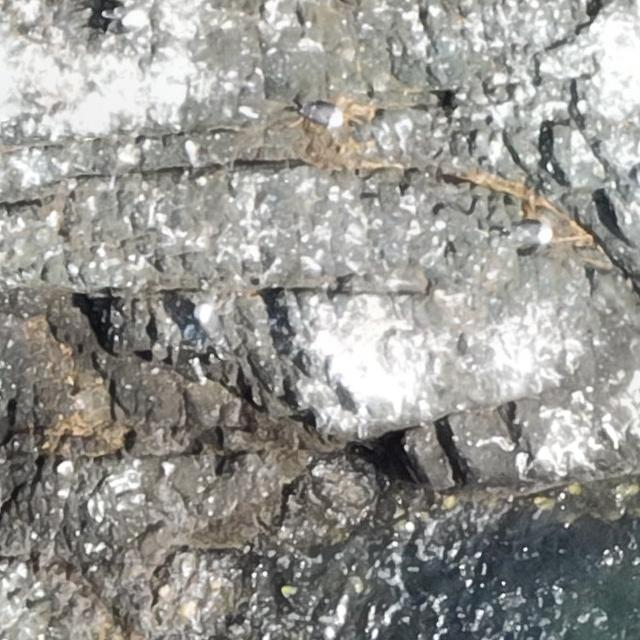umineko: (195, 304, 225, 348), (105, 8, 147, 38), (510, 223, 550, 243), (306, 106, 340, 127)
